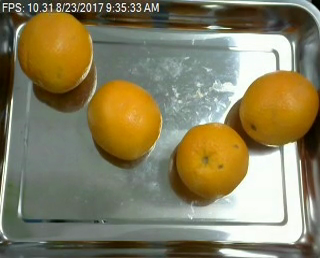Orange: (17, 8, 95, 91), (88, 79, 163, 160), (236, 71, 315, 145), (175, 123, 248, 201)
